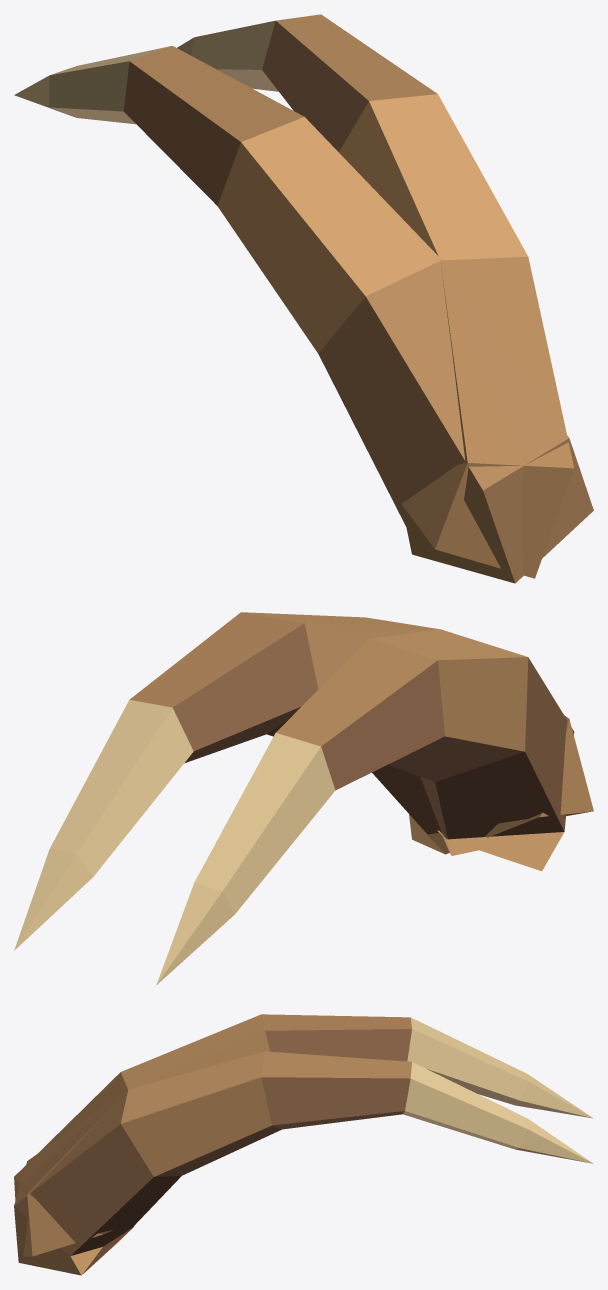
Rendered from horns_tf_swept.glb.
3 views of the same model, one above another, from view 1: azimuth 30°, elevation 25°; view 2: azimuth 150°, elevation 25°; view 3: azimuth 270°, elevation 25° (orthographic). The views are drawn at different scales.
Visible parts, largest first — view 1: Horn_R, Horn_L; view 2: Horn_R, Horn_L; view 3: Horn_L, Horn_R.
Part boxes in pixels (x1,y1,x2,y2): Horn_R: (14, 46, 593, 583); Horn_L: (177, 14, 574, 578); Horn_R: (156, 629, 574, 984); Horn_L: (14, 612, 593, 950); Horn_L: (14, 1051, 593, 1275); Horn_R: (14, 1014, 593, 1256).
Bounding box in the file's own units: 0.048 × 0.0675 × 0.1623.
1 material, 1 textured.
